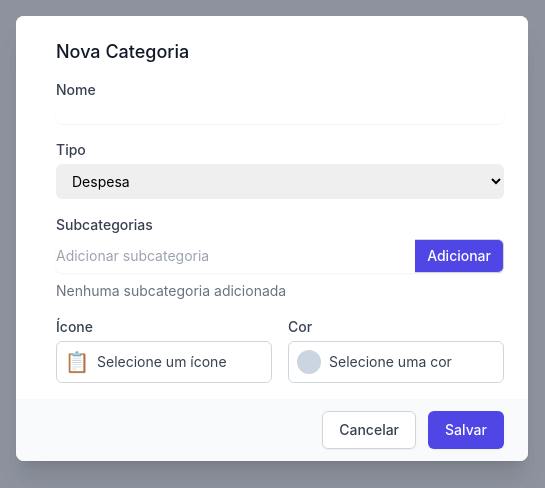
Test: CategoryForm › adiciona subcategoria quando botão é clicado
Type "Nova Subcategoria" into the field with placeholder "Adicionar subcategoria".
click(236, 256); type("Nova Subcategoria")  # box 56,238 -> 415,272
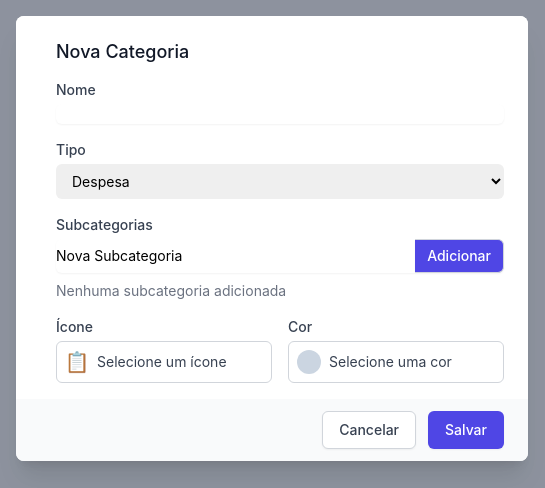
Click the button "Adicionar".
click(460, 256)  # box 415,238 -> 504,272
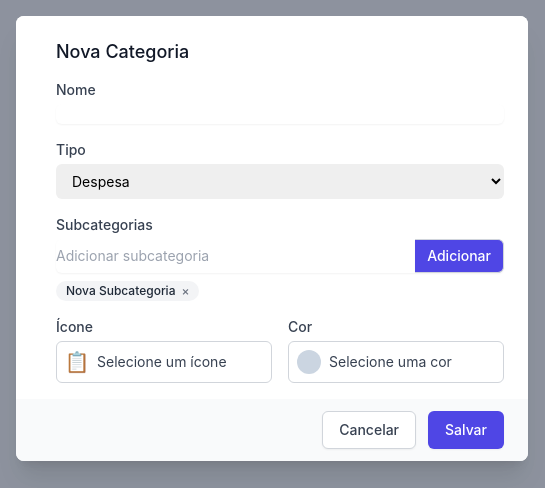
Expected: the text "Nova Subcategoria" is shown, 66,282 -> 176,298
Expected: the field with placeholder "Adicionar subcategoria" is empty, 56,238 -> 415,272
